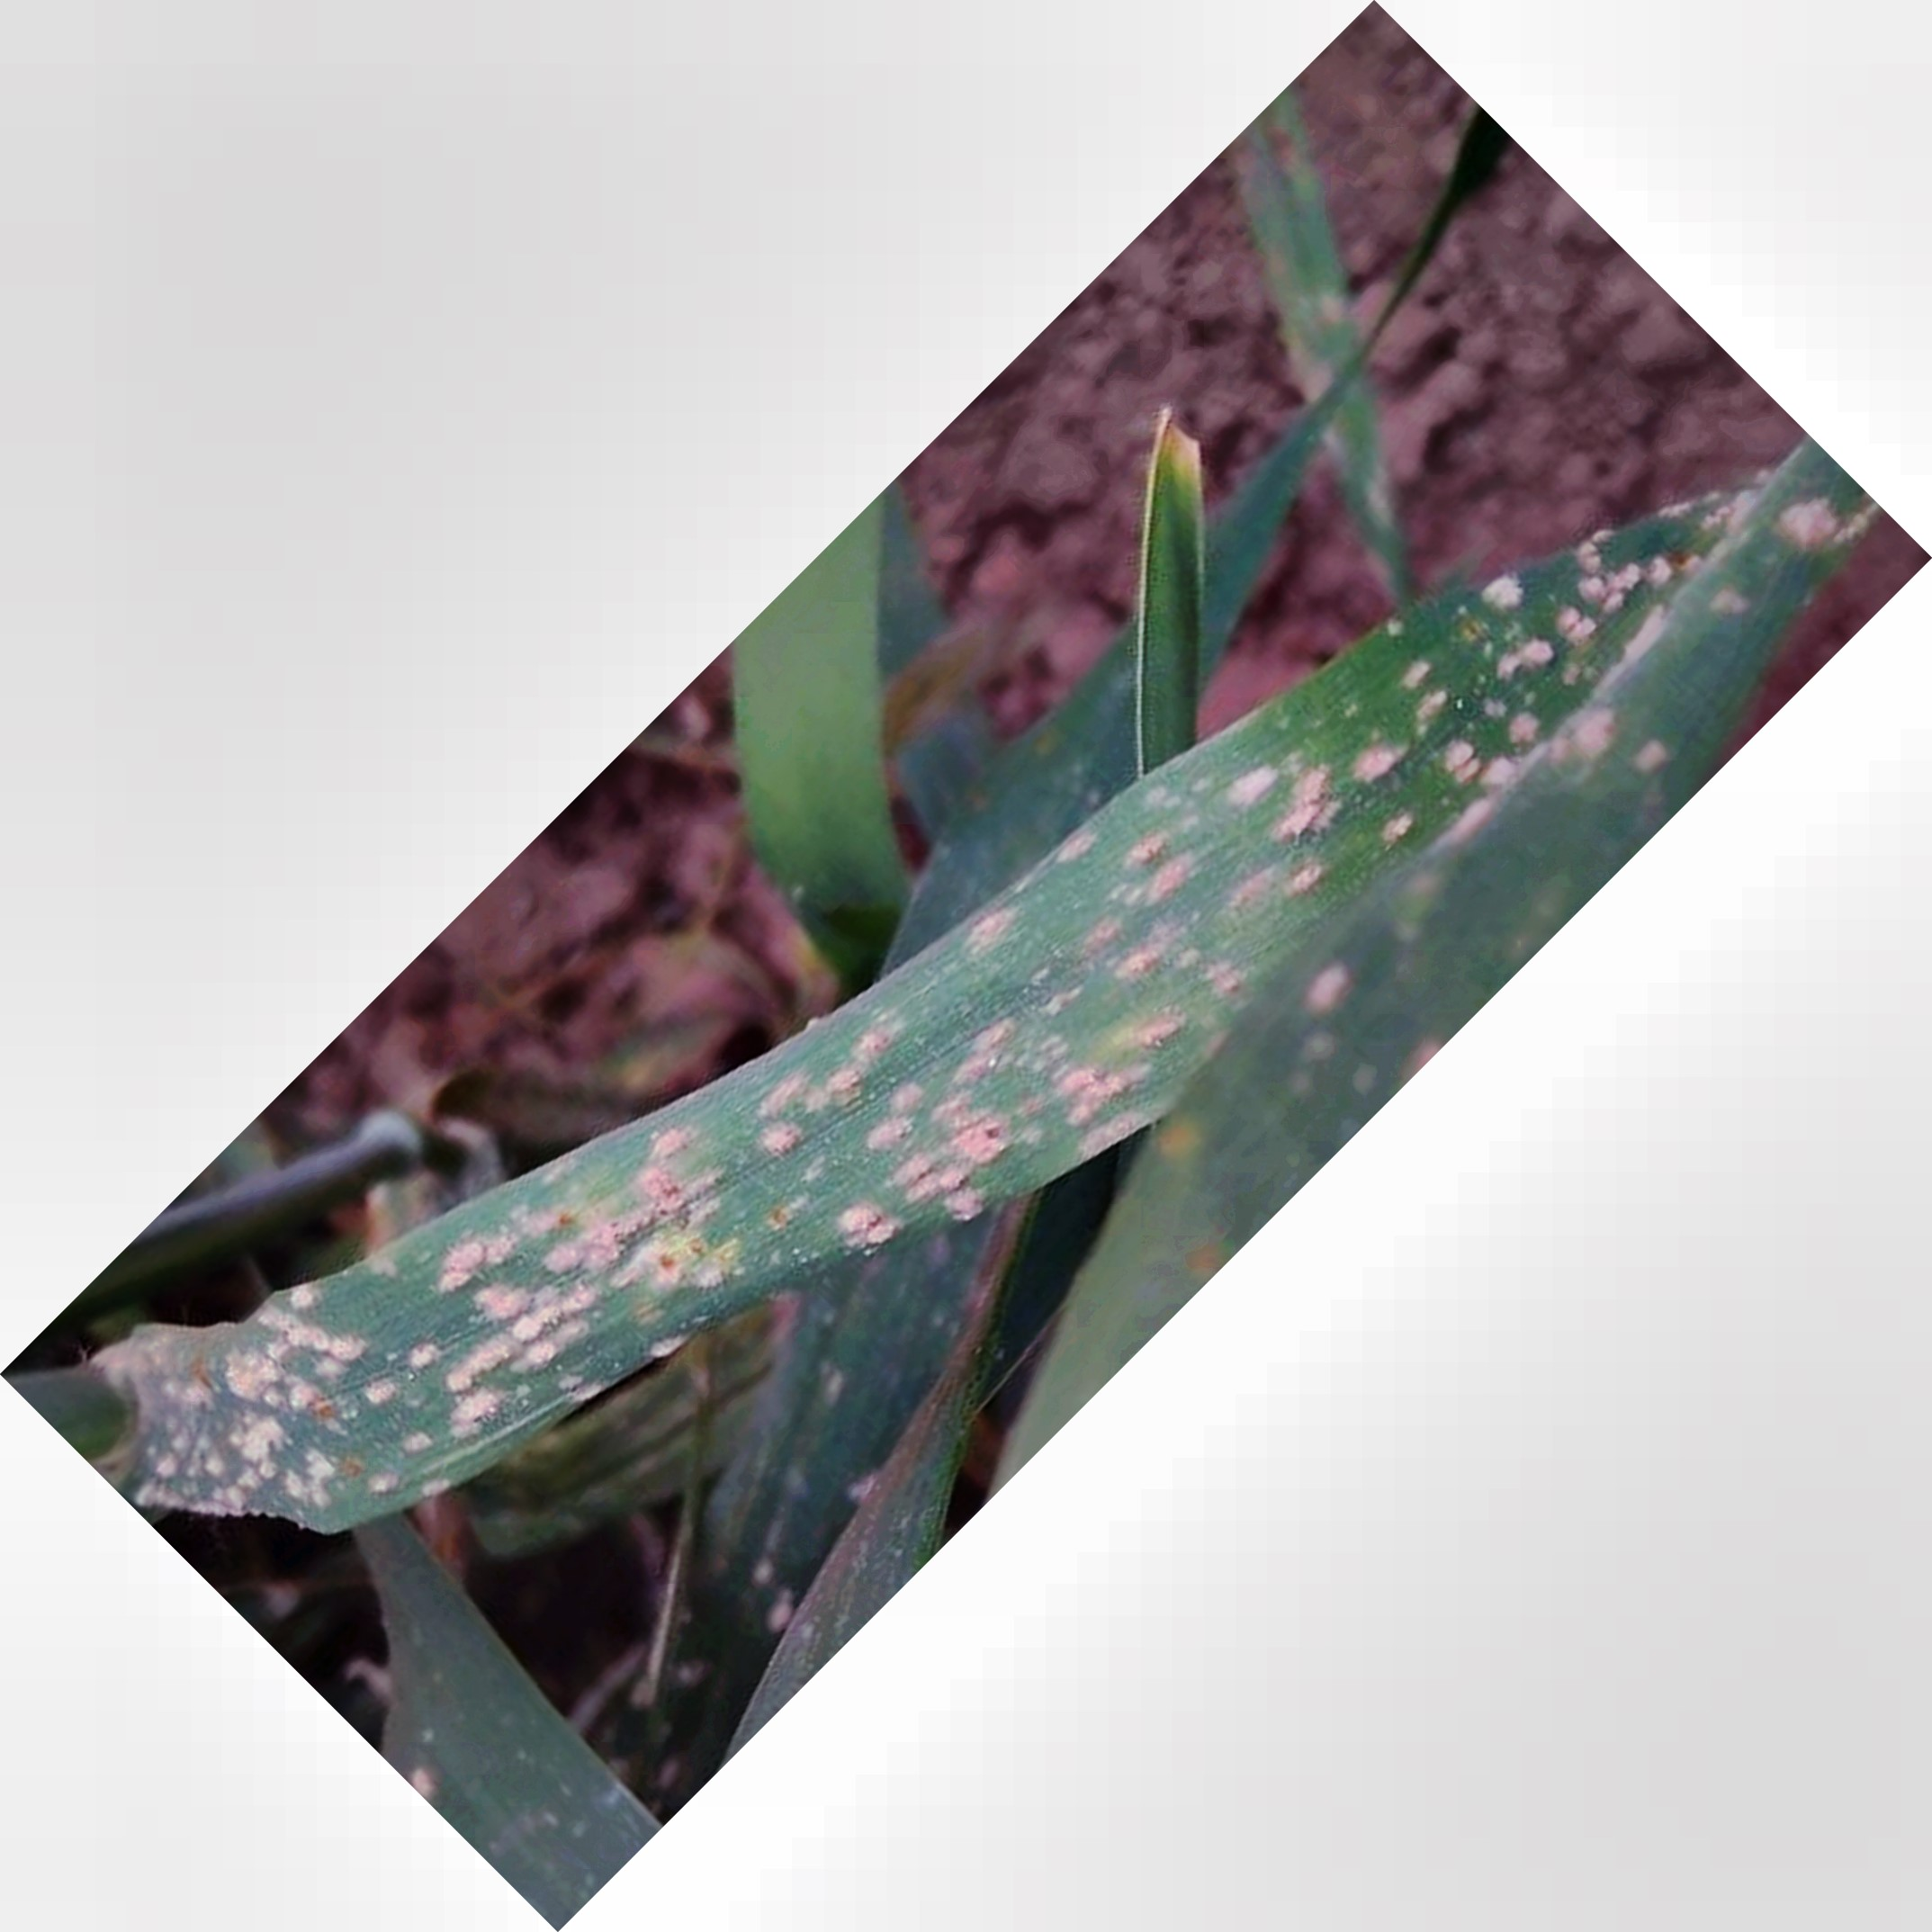Powdery Mildew: (159, 639, 1467, 1555)
